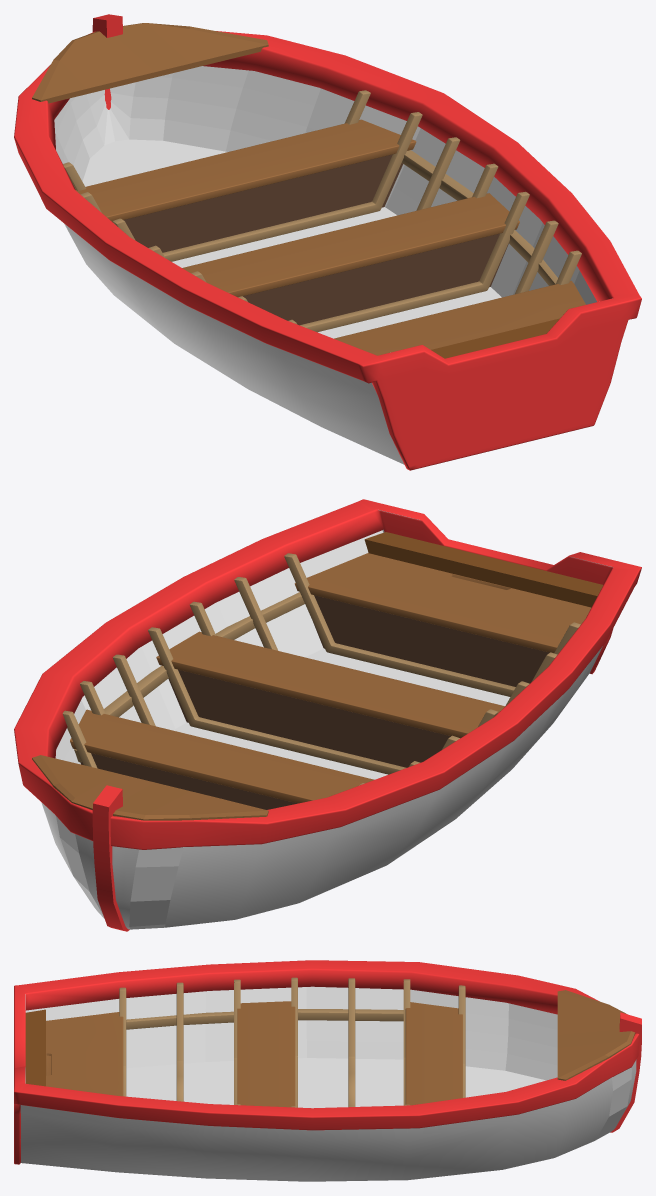
3 renders of one model, top to bottom at view 1: azimuth 30°, elevation 25°; view 2: azimuth 150°, elevation 25°; view 3: azimuth 270°, elevation 25°, orthographic. The views are drawn at different scales.
Visible parts, largest first — view 1: Object009, Box017, Box018, Object010, Box021, Box016, Box022, Box019; view 2: Object009, Box017, Box018, Object010, Box022, Box020, Box016, Box019, Box021; view 3: Box017, Object009, Box018, Object010, Box016, Box019.
Part boxes in pixels (x1=…): Object009: x1=14, y1=14, x2=641, y2=470; Box017: x1=54, y1=66, x2=596, y2=464; Box018: x1=75, y1=119, x2=585, y2=355; Object010: x1=63, y1=90, x2=581, y2=332; Box021: x1=123, y1=154, x2=402, y2=252; Box016: x1=32, y1=23, x2=268, y2=103; Box022: x1=243, y1=233, x2=508, y2=325; Box019: x1=431, y1=318, x2=559, y2=358; Object009: x1=14, y1=499, x2=641, y2=931; Box017: x1=41, y1=510, x2=612, y2=929; Box018: x1=70, y1=553, x2=590, y2=803; Object010: x1=62, y1=553, x2=580, y2=785; Box022: x1=168, y1=669, x2=450, y2=767; Box020: x1=313, y1=595, x2=549, y2=686; Box016: x1=32, y1=755, x2=268, y2=820; Box019: x1=364, y1=532, x2=603, y2=607; Box021: x1=80, y1=753, x2=297, y2=809; Box017: x1=20, y1=986, x2=636, y2=1181; Object009: x1=14, y1=960, x2=641, y2=1164; Box018: x1=46, y1=1001, x2=462, y2=1107; Object010: x1=119, y1=977, x2=465, y2=1107; Box016: x1=557, y1=990, x2=635, y2=1080; Box019: x1=25, y1=1009, x2=45, y2=1086.
Size of the model in its own units: 53.63 by 18.18 by 90.6.
